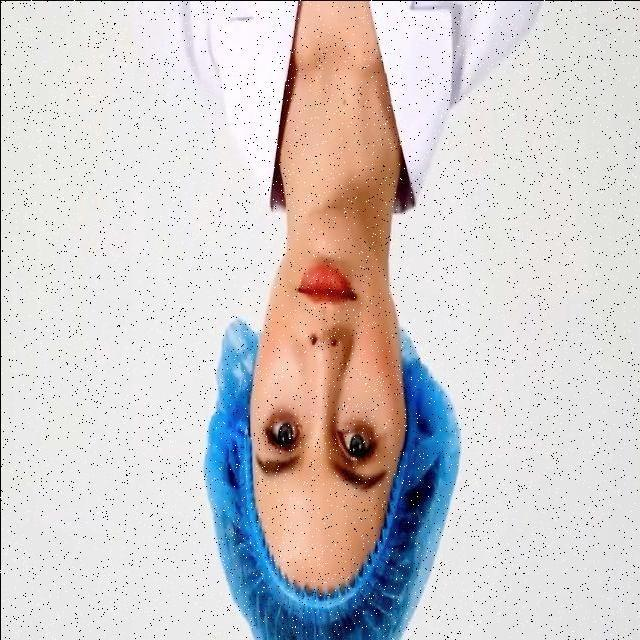gloves: (217, 556, 405, 640)
no_hairnet: (274, 235, 396, 371)
